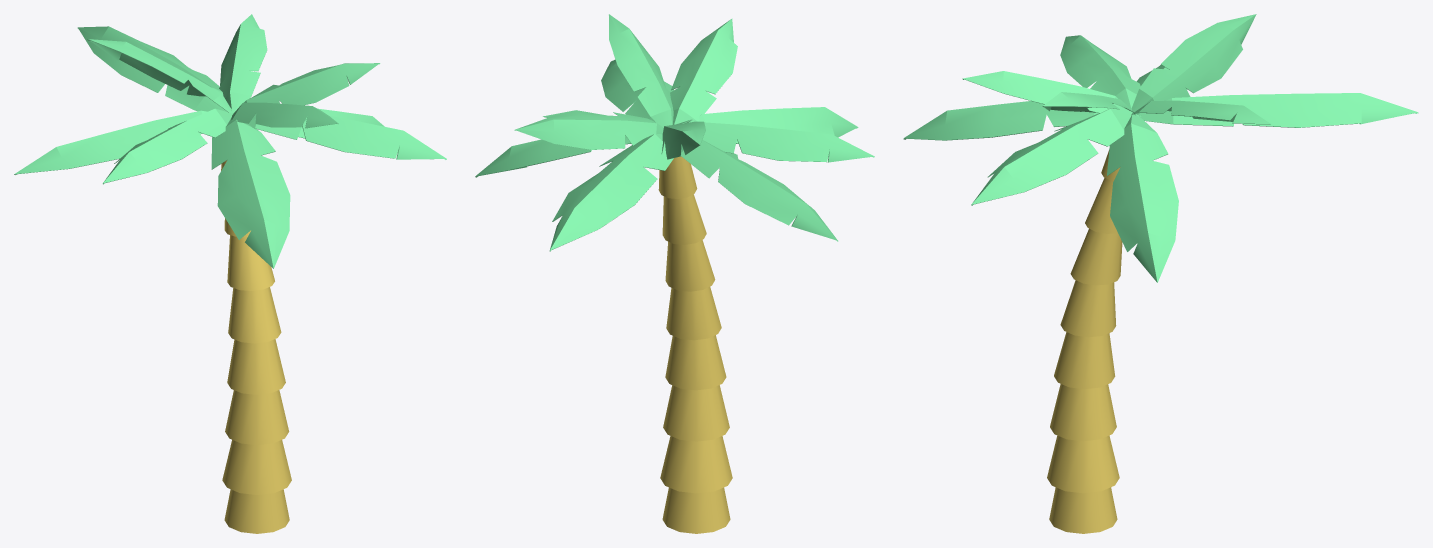
The model's file is Palm Tree.fbx.
3 renders of one model, left to right at view 1: azimuth 30°, elevation 25°; view 2: azimuth 150°, elevation 25°; view 3: azimuth 270°, elevation 25°, orthographic. The views are drawn at different scales.
Parts seen in each view (by area): view 1: Trunk, Leaf.004, Leaf.003, Leaf.008, Leaf.002, Leaf.001, Leaf.005, Leaf.006, Leaf.009, Leaf.007; view 2: Trunk, Leaf.001, Leaf.002, Leaf.008, Leaf.007, Leaf.005, Leaf.006, Leaf.004, Leaf, Leaf.003, Leaf.009; view 3: Trunk, Leaf, Leaf.001, Leaf.003, Leaf.009, Leaf.004, Leaf.008, Leaf.007, Leaf.005, Leaf.006.
Boxes of the visible parts, x1,y1,x2,y2 form: Trunk: [221, 160, 291, 533]; Leaf.004: [211, 118, 290, 268]; Leaf.003: [248, 115, 446, 159]; Leaf.008: [102, 108, 232, 184]; Leaf.002: [14, 110, 207, 174]; Leaf.001: [77, 26, 227, 111]; Leaf.005: [219, 14, 267, 113]; Leaf.006: [244, 63, 380, 119]; Leaf.009: [87, 39, 233, 113]; Leaf.007: [231, 102, 338, 128]; Trunk: [658, 156, 732, 533]; Leaf.001: [549, 134, 673, 251]; Leaf.002: [681, 140, 838, 241]; Leaf.008: [702, 122, 874, 162]; Leaf.007: [670, 18, 737, 124]; Leaf.005: [514, 110, 663, 149]; Leaf.006: [609, 14, 673, 127]; Leaf.004: [698, 107, 858, 143]; Leaf: [475, 135, 630, 177]; Leaf.003: [601, 59, 673, 122]; Leaf.009: [661, 119, 705, 159]; Trunk: [1047, 150, 1122, 533]; Leaf: [1107, 114, 1178, 282]; Leaf.001: [1138, 93, 1418, 127]; Leaf.003: [971, 109, 1132, 205]; Leaf.009: [1131, 14, 1256, 114]; Leaf.004: [903, 101, 1140, 140]; Leaf.008: [1060, 35, 1140, 109]; Leaf.007: [962, 71, 1131, 113]; Leaf.005: [1131, 100, 1271, 125]; Leaf.006: [1042, 92, 1135, 115].
Size of the model in its own units: 1637 by 1903 by 1905.
